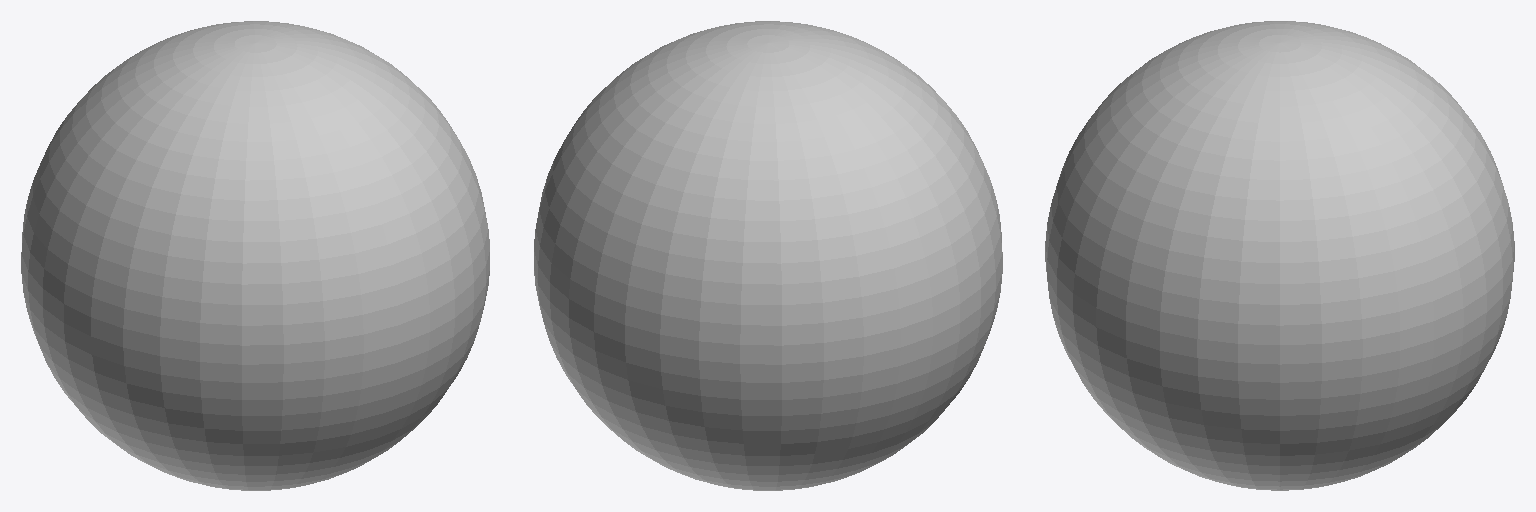
The model's file is earth.obj.
The picture shows the model from 3 angles: view 1: azimuth 30°, elevation 25°; view 2: azimuth 150°, elevation 25°; view 3: azimuth 270°, elevation 25°; orthographic projection.
Visible parts, largest first — view 1: RT_3D_Planet_Model_Surface; view 2: RT_3D_Planet_Model_Surface; view 3: RT_3D_Planet_Model_Surface.
Part boxes in pixels (x1,y1,x2,y2): RT_3D_Planet_Model_Surface: (21, 21, 489, 490); RT_3D_Planet_Model_Surface: (534, 21, 1002, 490); RT_3D_Planet_Model_Surface: (1045, 21, 1514, 490).
Size of the model in its own units: 997 by 1000 by 998.